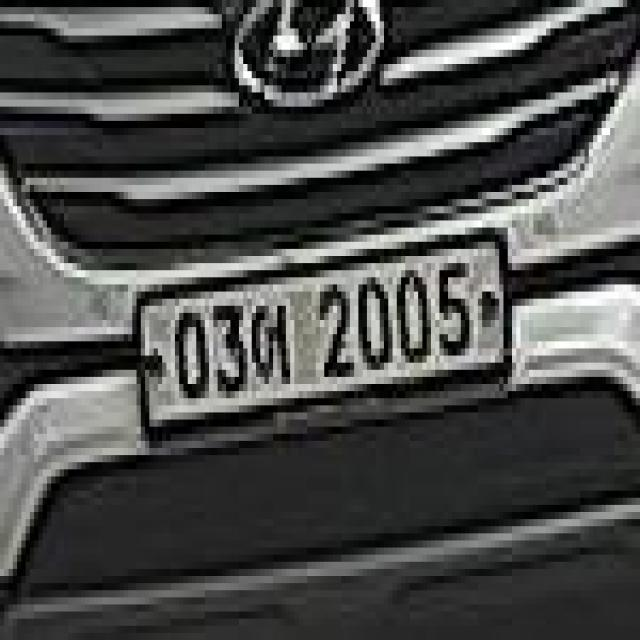illegal_plate: (135, 226, 518, 448)
